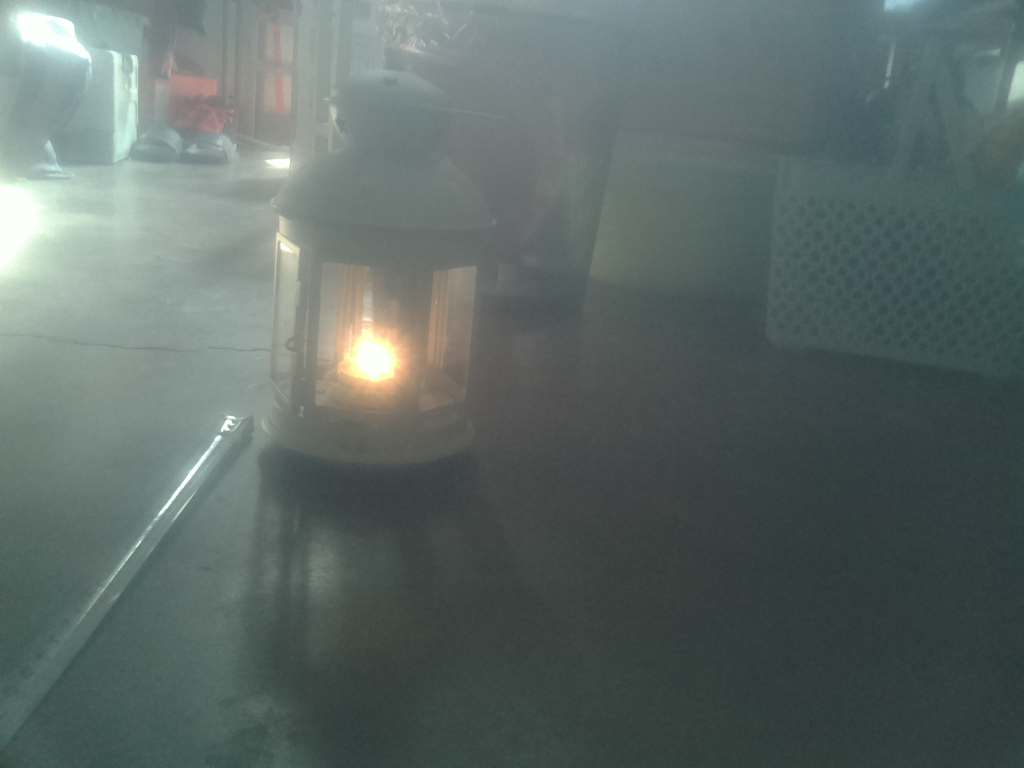fire: (326, 306, 418, 397)
